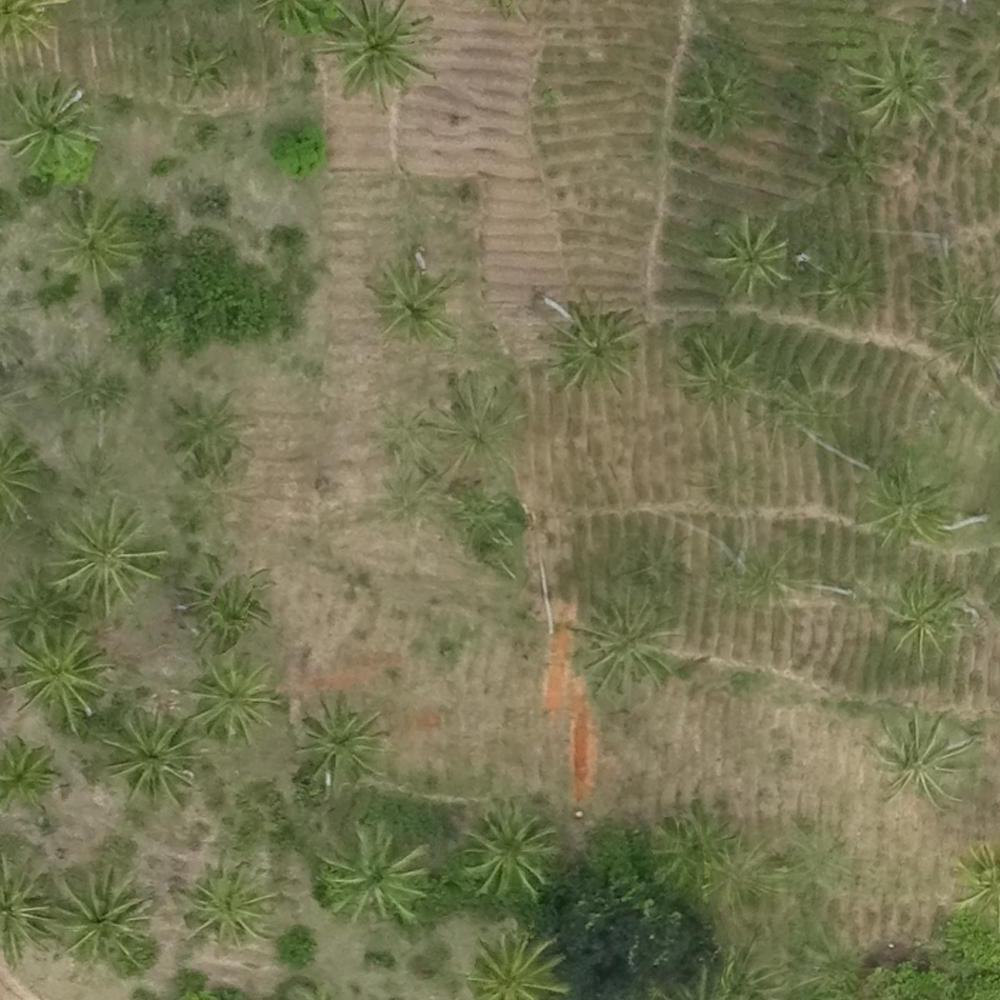Palm: (49, 501, 162, 611), (315, 827, 431, 927), (322, 2, 436, 99), (571, 591, 677, 693), (10, 622, 110, 730), (49, 865, 148, 966), (5, 73, 99, 179), (453, 802, 553, 901), (844, 29, 946, 125), (548, 293, 647, 388), (179, 555, 277, 650), (874, 706, 970, 802), (98, 711, 196, 804), (295, 696, 391, 790), (46, 194, 140, 286), (181, 852, 275, 941), (187, 656, 280, 743), (363, 260, 457, 345), (677, 332, 764, 417), (861, 462, 949, 545), (163, 391, 250, 474), (708, 212, 793, 293), (880, 574, 962, 657), (679, 61, 762, 142), (802, 243, 886, 323), (464, 934, 572, 996), (1, 737, 65, 814), (163, 36, 236, 101), (818, 129, 892, 193)
